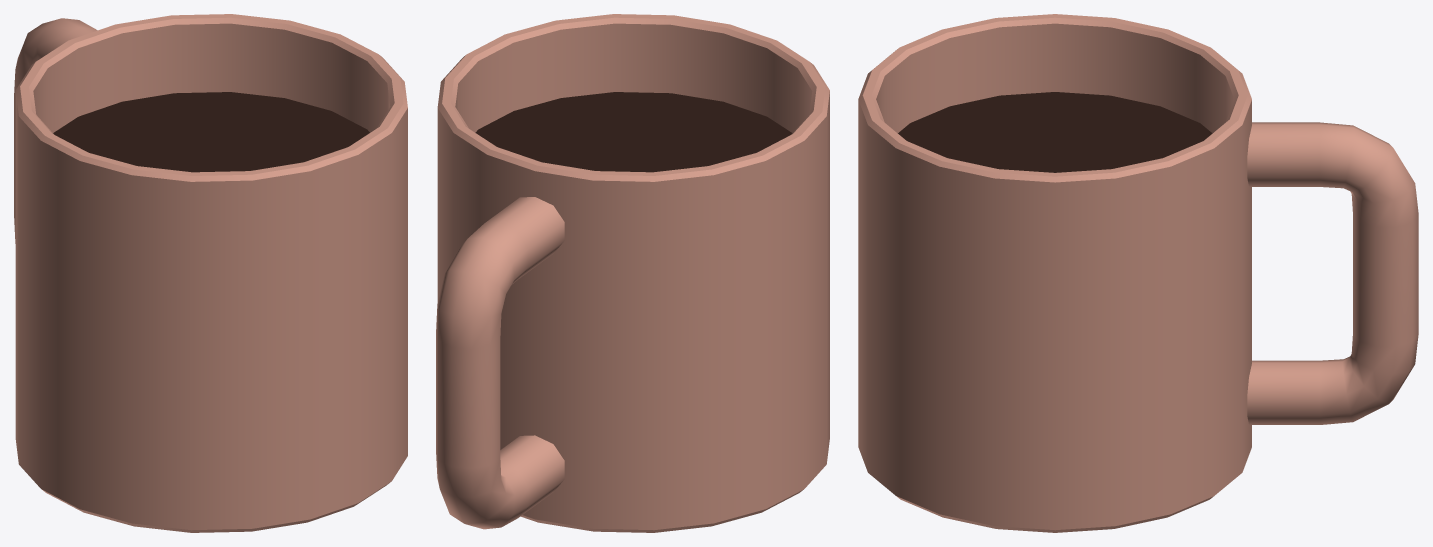
Rendered from SM_Cup_Filled.fbx.
3 views of the same model, side by side, from view 1: azimuth 30°, elevation 25°; view 2: azimuth 150°, elevation 25°; view 3: azimuth 270°, elevation 25° (orthographic).
Parts seen in each view (by area): view 1: SM_Cup_Filled; view 2: SM_Cup_Filled; view 3: SM_Cup_Filled.
Boxes of the visible parts, x1,y1,x2,y2 form: SM_Cup_Filled: [14, 14, 407, 532]; SM_Cup_Filled: [436, 14, 829, 532]; SM_Cup_Filled: [858, 14, 1418, 532].
Size of the model in its own units: 17.05 by 17.05 by 24.26.
